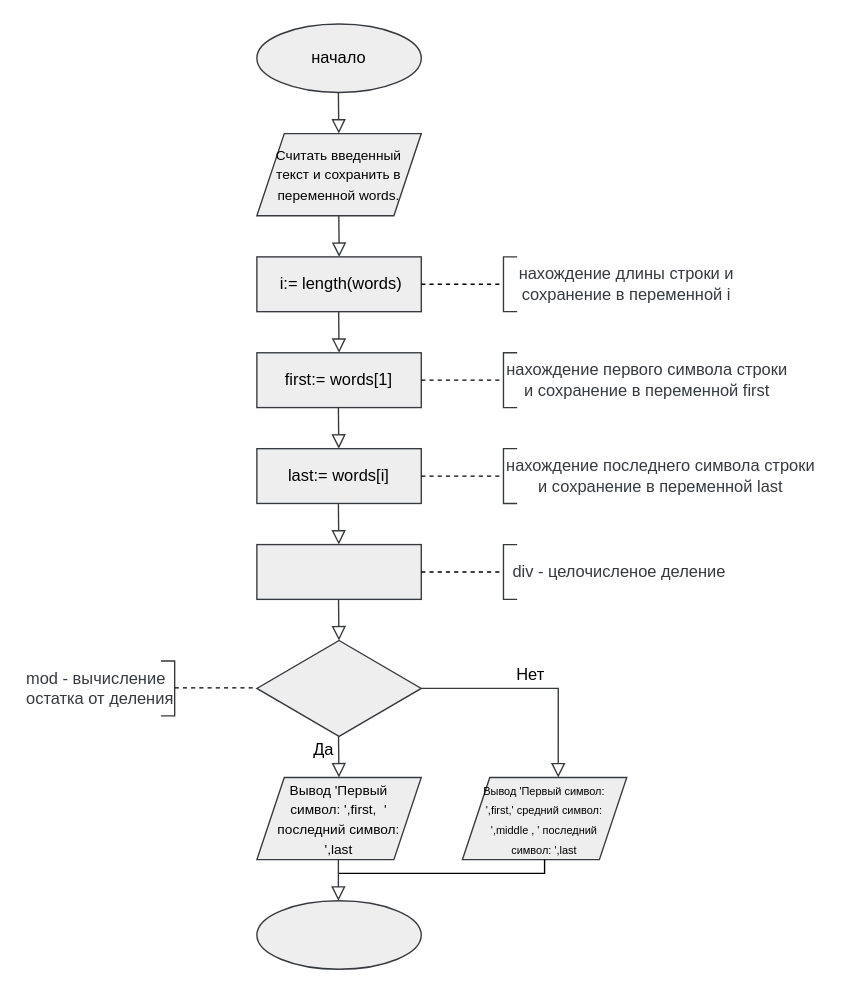
This 848x993 diagram has some shape labels left out. The centre of each missing label's shape, as x and y in pixels:
"i mod 2 = 0" goes at (x=338, y=687).
"middle:= words [i div 2+1]" goes at (x=338, y=571).
"конец" goes at (x=338, y=934).
